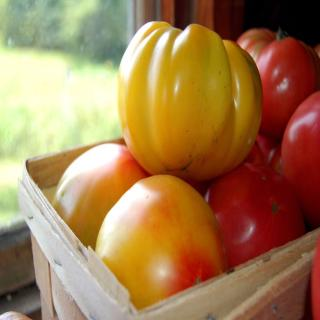tomato: (121, 16, 258, 193), (94, 174, 230, 308), (202, 161, 306, 268), (49, 140, 149, 246), (238, 28, 320, 138), (282, 94, 320, 226)
